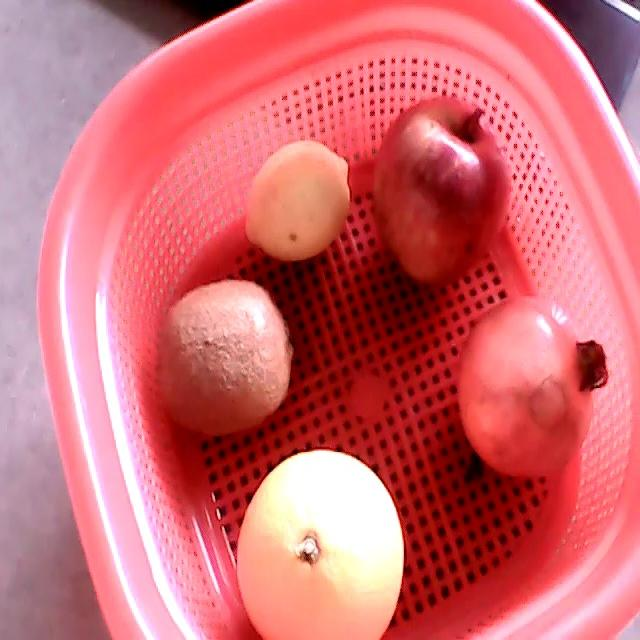apple: (373, 95, 514, 283)
kiwi: (153, 281, 291, 437)
lemon: (245, 140, 350, 261)
orange: (237, 449, 408, 639)
pomegranate: (455, 295, 608, 479)
